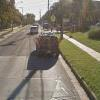Car: (34, 32, 60, 60)
